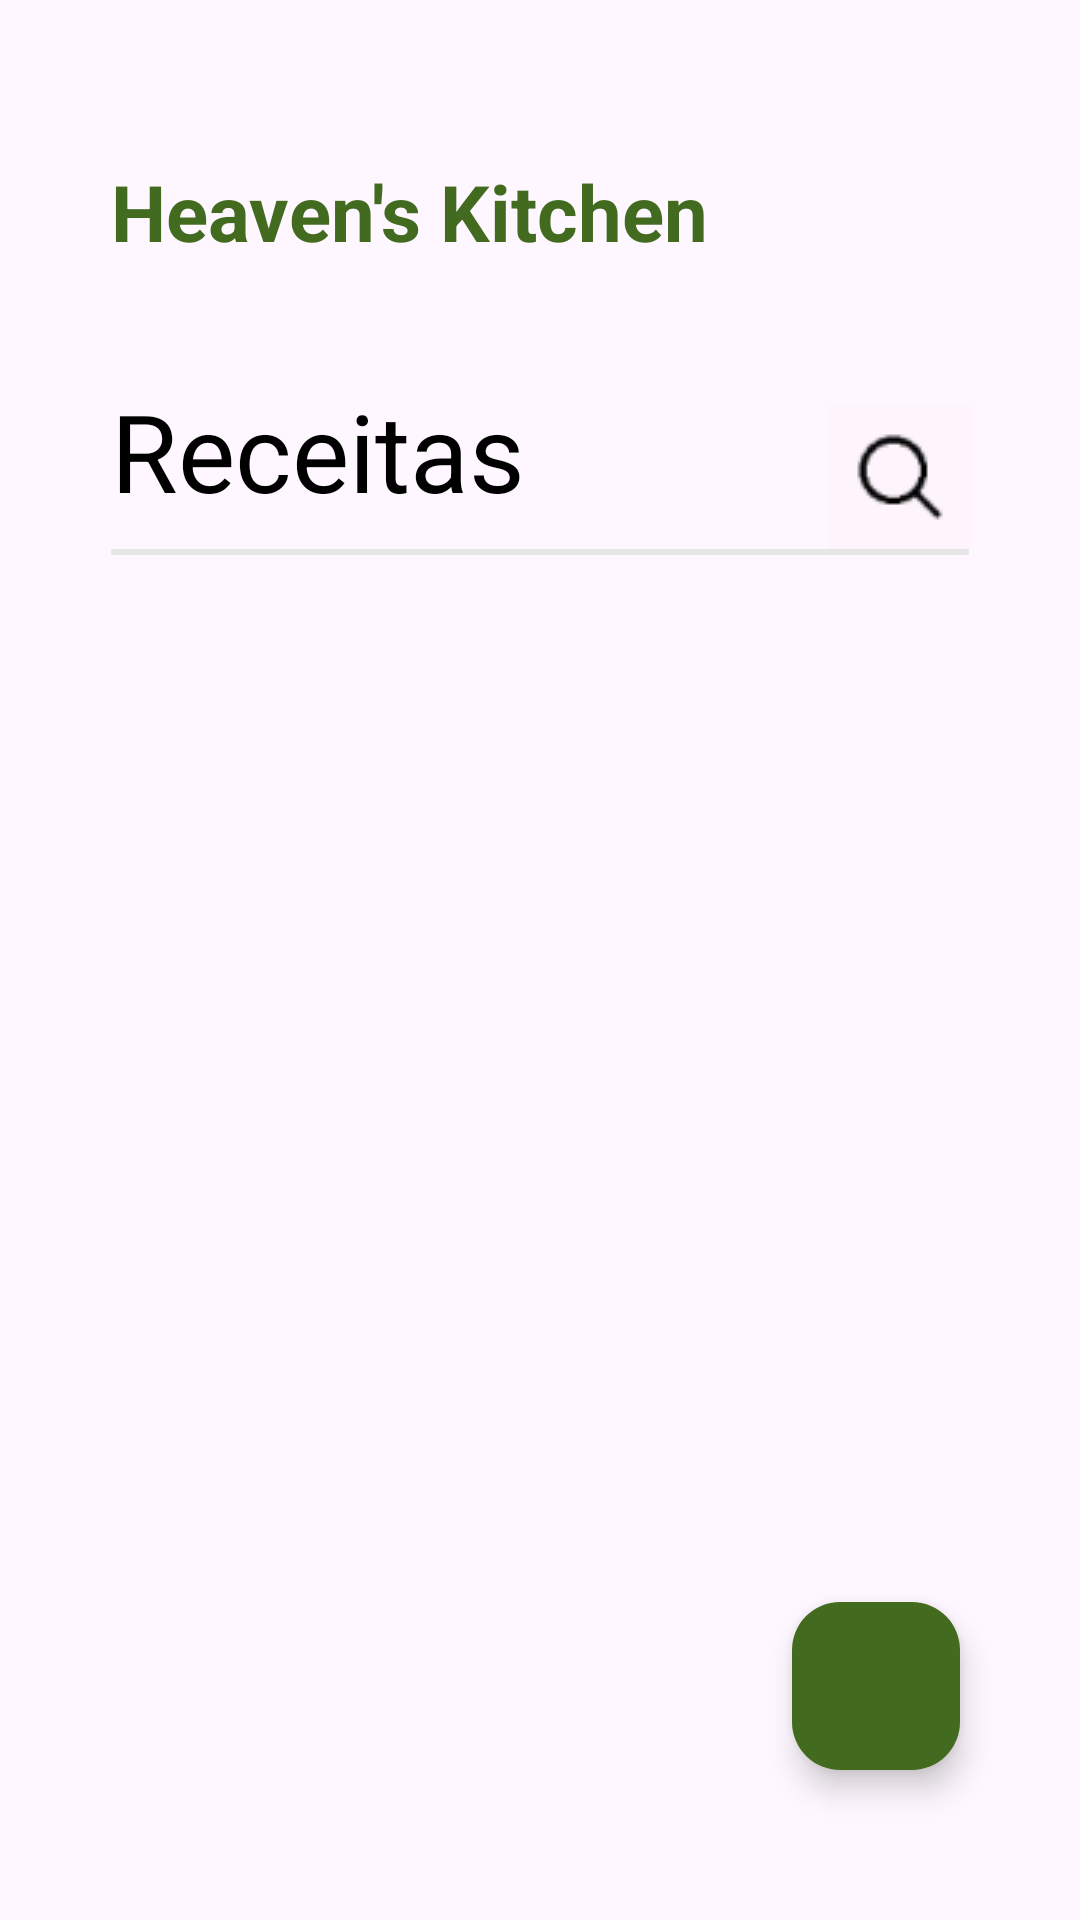

Point at icon controls on the screen. Image size 1080 × 1920, points as (x,y).
lupa resized: (900,477)
